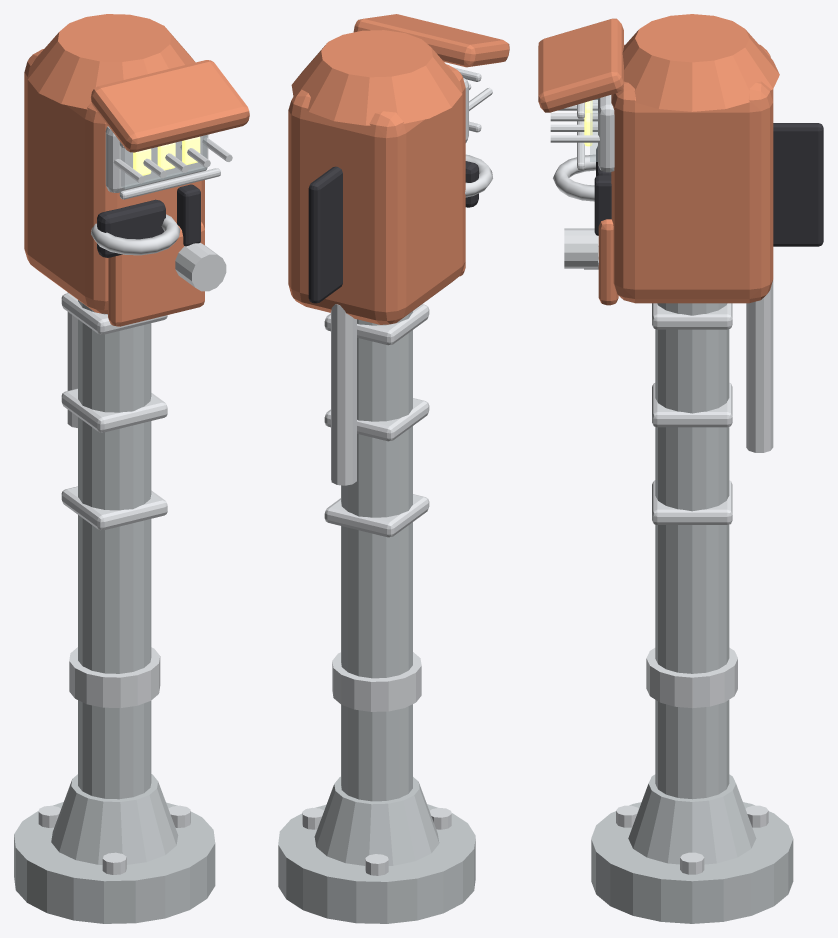
The model's file is prop_parking_meter.glb.
3 renders of one model, left to right at view 1: azimuth 30°, elevation 25°; view 2: azimuth 150°, elevation 25°; view 3: azimuth 270°, elevation 25°, orthographic.
Visible parts, largest first — view 1: prop_parking_meter_post, prop_parking_meter_head_body, prop_parking_meter_base, prop_parking_meter_solar_hood, prop_parking_meter_head_cap, prop_parking_meter_collar, prop_parking_meter_lower_door, prop_parking_meter_mid_band, prop_parking_meter_display_bezel, prop_parking_meter_card_pad, prop_parking_meter_post_band_1, prop_parking_meter_post_band_0 (+8 smaller); view 2: prop_parking_meter_head_body, prop_parking_meter_post, prop_parking_meter_base, prop_parking_meter_head_cap, prop_parking_meter_collar, prop_parking_meter_conduit, prop_parking_meter_service_panel, prop_parking_meter_solar_hood, prop_parking_meter_mid_band, prop_parking_meter_post_band_0, prop_parking_meter_post_band_1, prop_parking_meter_post_band_2 (+1 smaller); view 3: prop_parking_meter_head_body, prop_parking_meter_post, prop_parking_meter_base, prop_parking_meter_head_cap, prop_parking_meter_collar, prop_parking_meter_solar_hood, prop_parking_meter_service_panel, prop_parking_meter_conduit, prop_parking_meter_mid_band, prop_parking_meter_post_band_1, prop_parking_meter_post_band_0, prop_parking_meter_post_band_2 (+5 smaller).
Boxes of the visible parts, x1,y1,x2,y2 form: prop_parking_meter_post: (78, 300, 151, 799); prop_parking_meter_head_body: (24, 49, 204, 313); prop_parking_meter_base: (14, 802, 215, 923); prop_parking_meter_solar_hood: (91, 60, 249, 152); prop_parking_meter_head_cap: (28, 14, 195, 109); prop_parking_meter_collar: (51, 774, 178, 864); prop_parking_meter_lower_door: (108, 222, 204, 326); prop_parking_meter_mid_band: (69, 647, 160, 707); prop_parking_meter_display_bezel: (105, 126, 208, 192); prop_parking_meter_card_pad: (97, 199, 165, 257); prop_parking_meter_post_band_1: (61, 388, 167, 432); prop_parking_meter_post_band_0: (61, 486, 167, 530); prop_parking_meter_head_body: (288, 64, 465, 324); prop_parking_meter_post: (341, 311, 412, 801); prop_parking_meter_base: (278, 804, 475, 923); prop_parking_meter_head_cap: (291, 30, 462, 125); prop_parking_meter_collar: (314, 776, 439, 865); prop_parking_meter_conduit: (331, 304, 356, 485); prop_parking_meter_service_panel: (308, 166, 342, 303); prop_parking_meter_solar_hood: (353, 14, 509, 67); prop_parking_meter_mid_band: (332, 652, 421, 711); prop_parking_meter_post_band_0: (324, 494, 429, 537); prop_parking_meter_post_band_1: (324, 398, 429, 441); prop_parking_meter_post_band_2: (324, 304, 429, 345); prop_parking_meter_head_body: (611, 44, 773, 303); prop_parking_meter_post: (655, 303, 729, 799); prop_parking_meter_base: (591, 802, 793, 923); prop_parking_meter_head_cap: (622, 14, 779, 111); prop_parking_meter_collar: (628, 774, 756, 864); prop_parking_meter_solar_hood: (538, 18, 623, 112); prop_parking_meter_service_panel: (773, 123, 823, 246); prop_parking_meter_conduit: (746, 280, 773, 452); prop_parking_meter_mid_band: (646, 647, 737, 708); prop_parking_meter_post_band_1: (652, 383, 732, 427); prop_parking_meter_post_band_0: (652, 480, 732, 524); prop_parking_meter_post_band_2: (652, 303, 732, 329).
Size of the model in its own units: 0.3 by 1.38 by 0.4235.
